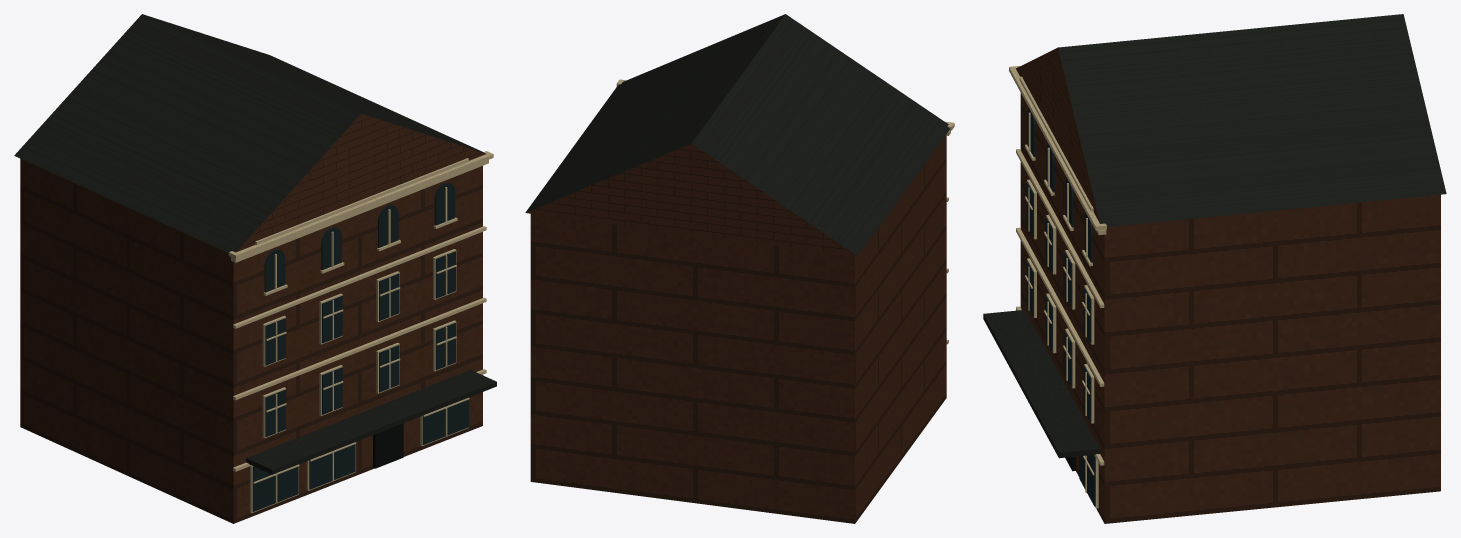
3 views of the same model, side by side, from view 1: azimuth 30°, elevation 25°; view 2: azimuth 150°, elevation 25°; view 3: azimuth 270°, elevation 25° (orthographic). The views are drawn at different scales.
Visible parts, largest first — view 1: hotel-gouden-hert-0, hotel-gouden-hert-1, hotel-gouden-hert-3, hotel-gouden-hert-2, hotel-gouden-hert-4; view 2: hotel-gouden-hert-0, hotel-gouden-hert-1; view 3: hotel-gouden-hert-0, hotel-gouden-hert-1, hotel-gouden-hert-2, hotel-gouden-hert-3.
Part boxes in pixels (bbox=[...]): hotel-gouden-hert-0: bbox=[20, 113, 485, 523]; hotel-gouden-hert-1: bbox=[14, 14, 496, 474]; hotel-gouden-hert-3: bbox=[252, 182, 468, 511]; hotel-gouden-hert-2: bbox=[228, 151, 493, 513]; hotel-gouden-hert-4: bbox=[373, 423, 403, 468]; hotel-gouden-hert-0: bbox=[526, 135, 946, 523]; hotel-gouden-hert-1: bbox=[525, 14, 949, 255]; hotel-gouden-hert-0: bbox=[1016, 47, 1440, 523]; hotel-gouden-hert-1: bbox=[983, 14, 1446, 458]; hotel-gouden-hert-2: bbox=[1009, 66, 1106, 508]; hotel-gouden-hert-3: bbox=[1026, 108, 1095, 506].
Size of the model in its own units: 23.86 by 23 by 24.17.
5 materials, 5 textured.
